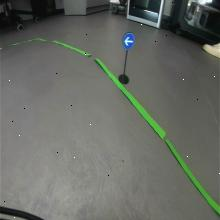left: (122, 32, 135, 49)
